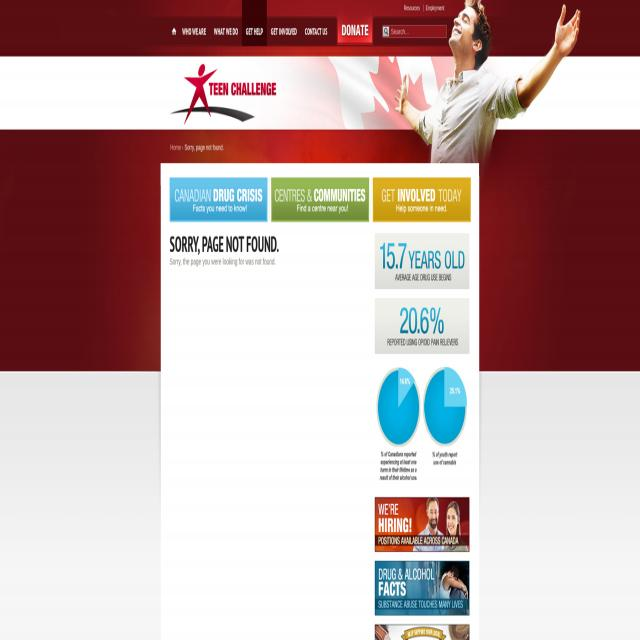button: (375, 366, 469, 488), (375, 233, 469, 289), (375, 298, 469, 354), (375, 497, 469, 552), (375, 562, 469, 614), (271, 177, 370, 221), (170, 177, 268, 221), (372, 178, 470, 221), (374, 624, 469, 640), (242, 0, 267, 46), (267, 16, 301, 46), (210, 16, 242, 46), (178, 17, 210, 46), (301, 16, 331, 46), (170, 18, 178, 46), (383, 27, 389, 37)
field: (382, 25, 447, 38)
